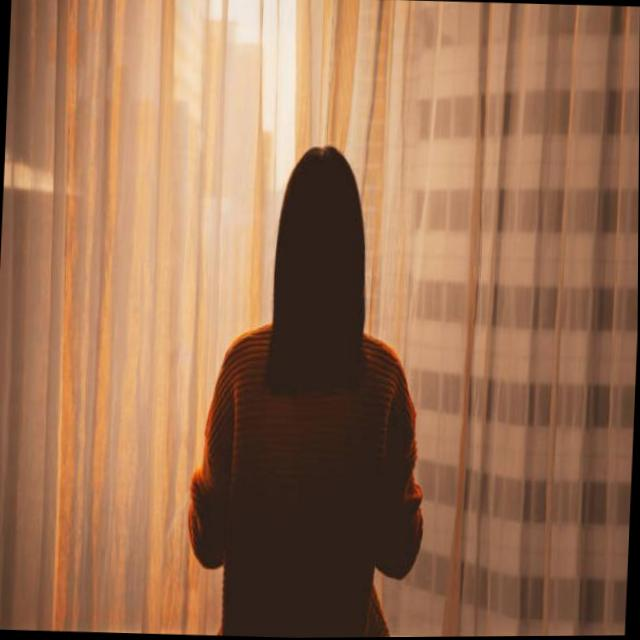no helmet: (268, 140, 376, 331)
